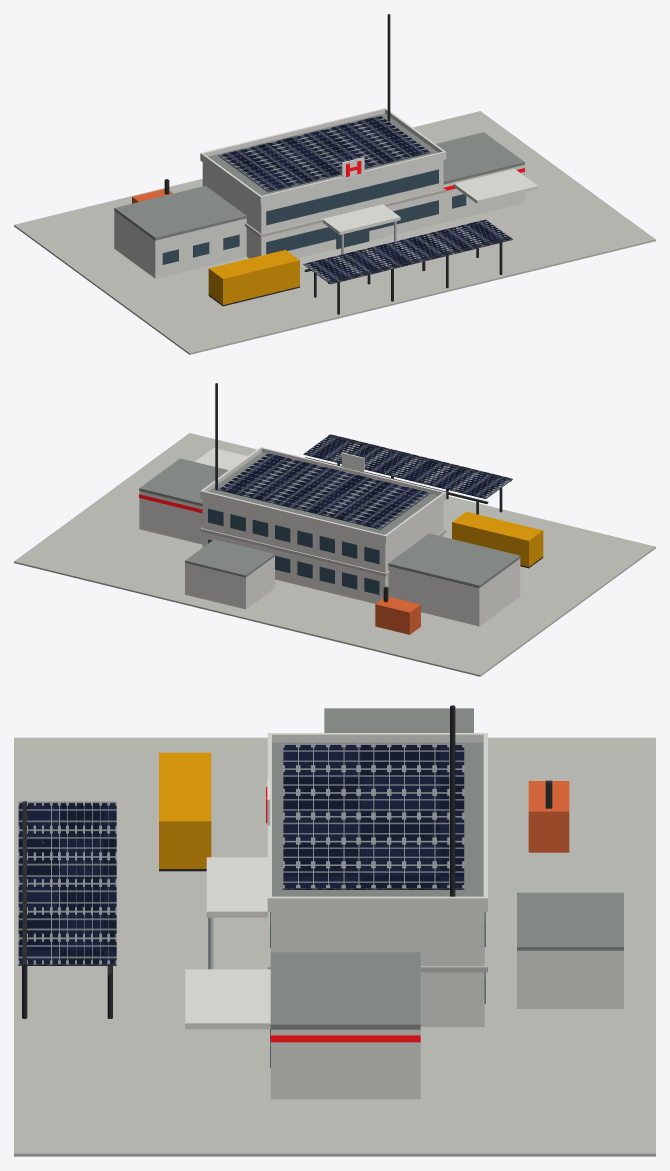
File: hospital_lod1.glb
3 renders of one model, top to bottom at view 1: azimuth 30°, elevation 25°; view 2: azimuth 150°, elevation 25°; view 3: azimuth 270°, elevation 25°, orthographic. The views are drawn at different scales.
Visible parts, largest first — view 1: edificio, solar_simplificada, BESS_400kWh; view 2: edificio, solar_simplificada, BESS_400kWh; view 3: edificio, solar_simplificada, BESS_400kWh.
Boxes of the visible parts, x1,y1,x2,y2 form: edificio: (14, 14, 655, 354); solar_simplificada: (218, 115, 512, 284); BESS_400kWh: (208, 250, 299, 306); edificio: (14, 383, 655, 676); solar_simplificada: (218, 434, 512, 529); BESS_400kWh: (452, 512, 543, 568); edificio: (14, 705, 655, 1156); solar_simplificada: (18, 743, 464, 965); BESS_400kWh: (159, 752, 211, 871).
Size of the model in its own units: 46 by 16.45 by 30.
11 materials, 1 textured.
